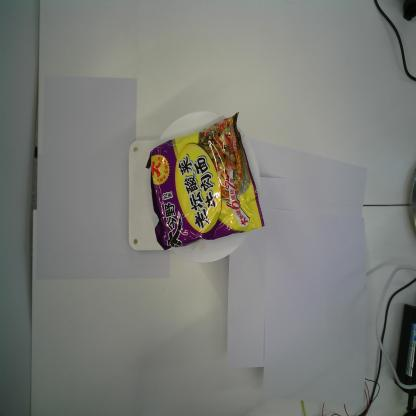Instant Noodles: (145, 112, 265, 250)
